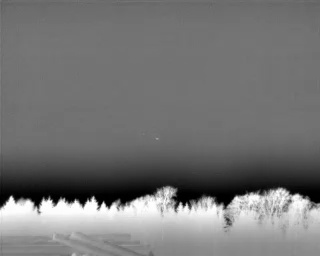BIRD: (154, 135, 161, 142)
